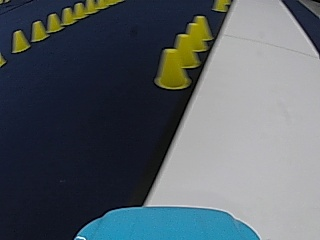cone: (153, 46, 189, 89), (171, 32, 199, 68), (177, 25, 204, 61), (183, 20, 208, 51), (189, 15, 212, 43), (11, 29, 29, 53), (30, 20, 46, 41), (46, 12, 61, 32), (60, 7, 73, 25), (73, 2, 85, 19), (212, 0, 227, 11), (85, 0, 94, 13)
